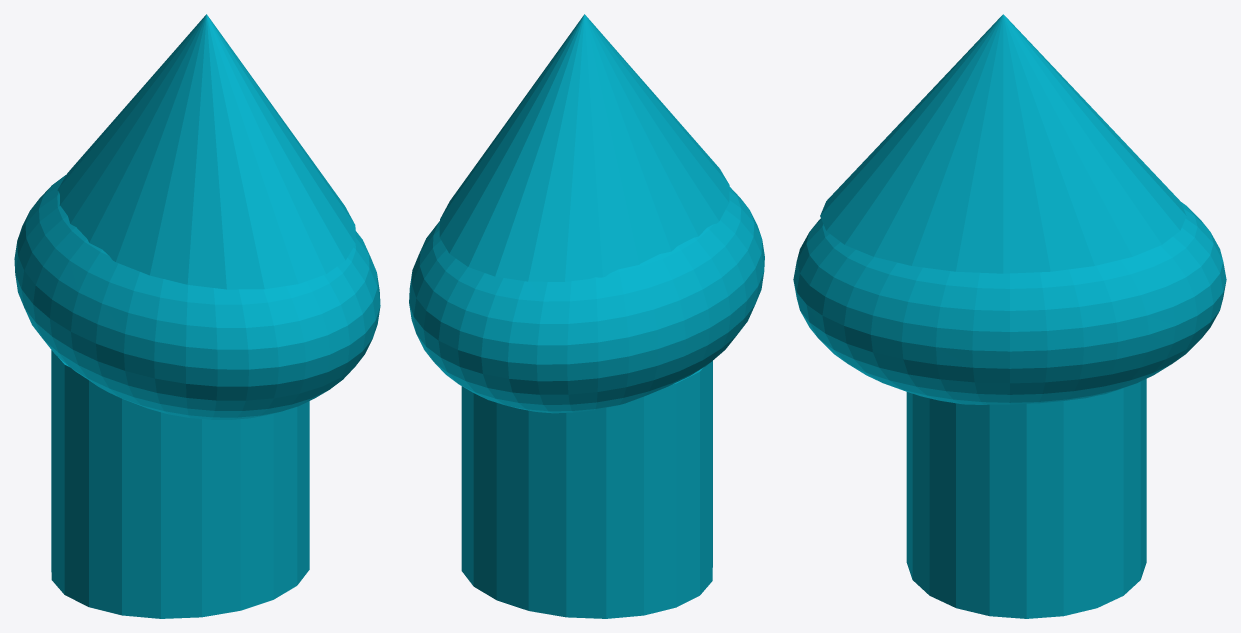
Rendered from Spectacular Tumelo.glb.
3 renders of one model, left to right at view 1: azimuth 30°, elevation 25°; view 2: azimuth 150°, elevation 25°; view 3: azimuth 270°, elevation 25°, orthographic. The views are drawn at different scales.
Parts seen in each view (by area): view 1: Mesh_Mesh_head_geo.001_lambert2SG.001; view 2: Mesh_Mesh_head_geo.001_lambert2SG.001; view 3: Mesh_Mesh_head_geo.001_lambert2SG.001.
Boxes of the visible parts, left/top/right/bottom form: Mesh_Mesh_head_geo.001_lambert2SG.001: left=14, top=14, right=380, bottom=618; Mesh_Mesh_head_geo.001_lambert2SG.001: left=409, top=14, right=764, bottom=618; Mesh_Mesh_head_geo.001_lambert2SG.001: left=793, top=14, right=1226, bottom=618.
Bounding box in the file's own units: 51 × 92 × 65.
